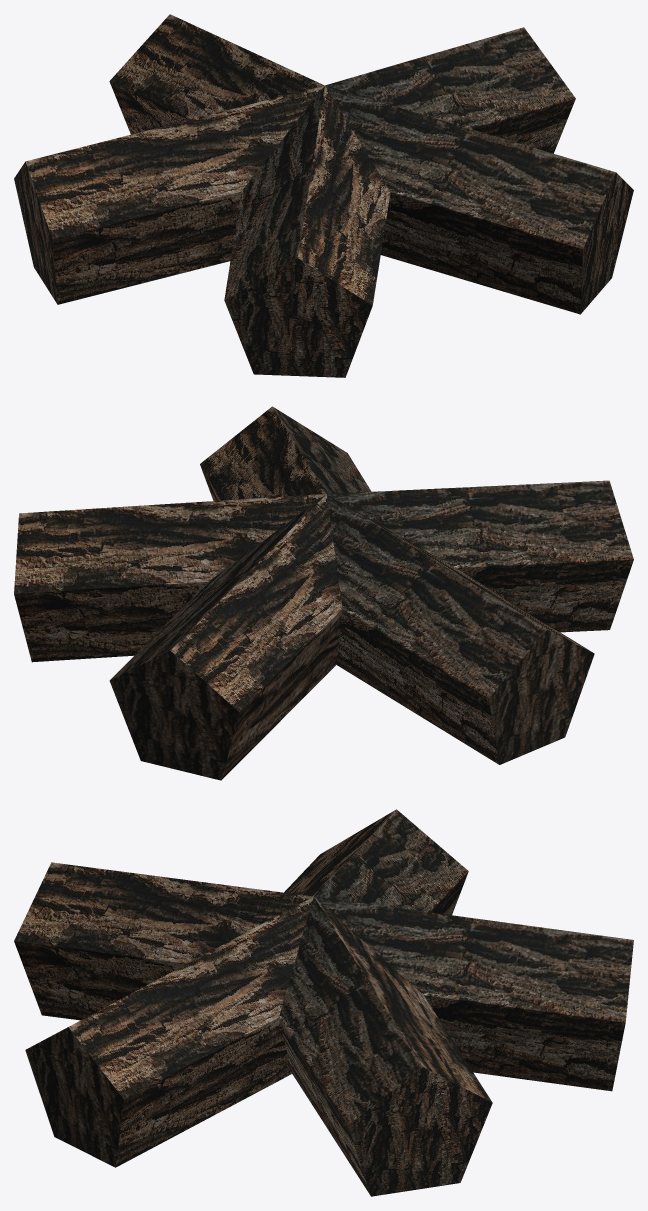
The model's file is campfire.glb.
The picture shows the model from 3 angles, top to bottom: view 1: azimuth 30°, elevation 25°; view 2: azimuth 150°, elevation 25°; view 3: azimuth 270°, elevation 25°; orthographic projection. The views are drawn at different scales.
Parts seen in each view (by area): view 1: Campfire; view 2: Campfire; view 3: Campfire.
Boxes of the visible parts, x1=… form: Campfire: x1=14, y1=14, x2=633, y2=377; Campfire: x1=14, y1=406, x2=633, y2=780; Campfire: x1=14, y1=809, x2=633, y2=1196.
Bounding box in the file's own units: 1.19 × 0.3572 × 1.15.
1 material, 1 textured.
